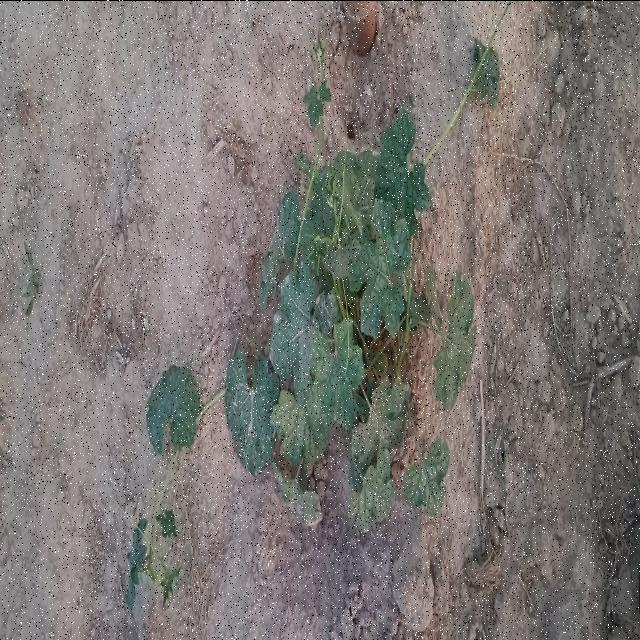plant: (126, 6, 508, 606), (404, 438, 449, 517)
